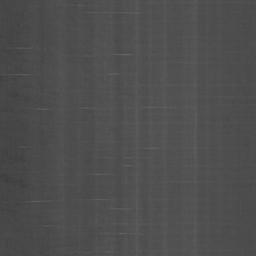Waist folding: (84, 207, 143, 254), (0, 46, 31, 77), (85, 52, 132, 59), (89, 10, 139, 15), (145, 105, 174, 110), (29, 199, 51, 204), (92, 172, 111, 177), (144, 146, 159, 151), (37, 106, 49, 112)
